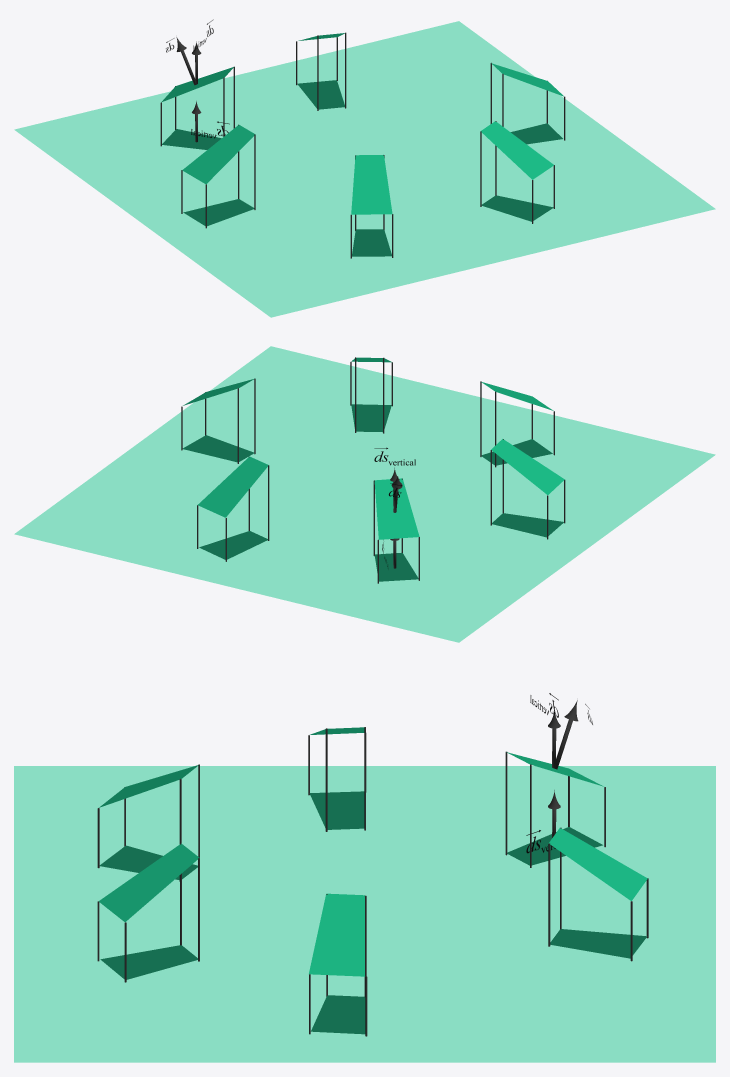
File: 10_Component of curved surface area.glb
3 views of the same model, one above another, from view 1: azimuth 30°, elevation 25°; view 2: azimuth 150°, elevation 25°; view 3: azimuth 270°, elevation 25° (orthographic). The views are drawn at different scales.
Parts seen in each view (by area): view 1: Plane, Curved_surface, Cylinder.002, Cylinder.013, Cylinder.001, Cylinder.007, Cylinder.012, Cylinder.014; view 2: Plane, Curved_surface, Cylinder.014, Cylinder.001, Cylinder.002, Cylinder.013, Cylinder.012, Cylinder.007; view 3: Plane, Curved_surface, Cylinder.002, Cylinder.013, Cylinder.001, Cylinder.014, Cylinder.012, Cylinder.007.
Boxes of the visible parts, left/top/right/bottom form: Plane: left=14, top=21, right=715, bottom=317; Curved_surface: left=161, top=33, right=563, bottom=214; Cylinder.002: left=296, top=32, right=346, bottom=110; Cylinder.013: left=480, top=121, right=554, bottom=223; Cylinder.001: left=181, top=124, right=255, bottom=228; Cylinder.007: left=350, top=155, right=393, bottom=258; Cylinder.012: left=160, top=66, right=234, bottom=149; Cylinder.014: left=490, top=62, right=565, bottom=144; Plane: left=14, top=346, right=715, bottom=642; Curved_surface: left=183, top=357, right=564, bottom=539; Cylinder.014: left=181, top=378, right=255, bottom=463; Cylinder.001: left=490, top=439, right=565, bottom=539; Cylinder.002: left=197, top=457, right=269, bottom=561; Cylinder.013: left=350, top=357, right=392, bottom=433; Cylinder.012: left=373, top=478, right=419, bottom=583; Cylinder.007: left=480, top=381, right=554, bottom=467; Plane: left=14, top=766, right=715, bottom=1062; Curved_surface: left=98, top=727, right=647, bottom=976; Cylinder.002: left=548, top=827, right=648, bottom=961; Cylinder.013: left=97, top=843, right=199, bottom=982; Cylinder.001: left=308, top=727, right=366, bottom=831; Cylinder.014: left=309, top=894, right=367, bottom=1036; Cylinder.012: left=505, top=751, right=605, bottom=867; Cylinder.007: left=97, top=764, right=199, bottom=881.
Size of the model in its own units: 3.55 by 0.9325 by 3.55.
20 materials, 3 textured.
